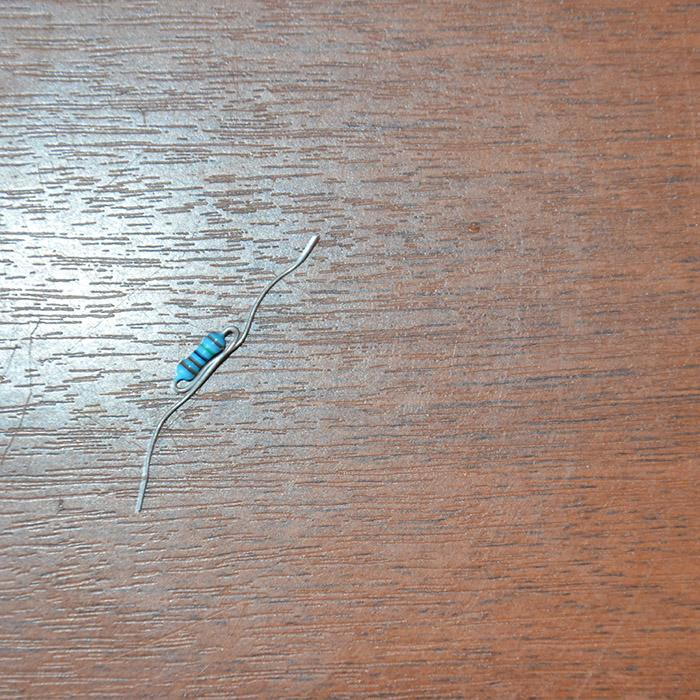resistor: (174, 331, 228, 384)
